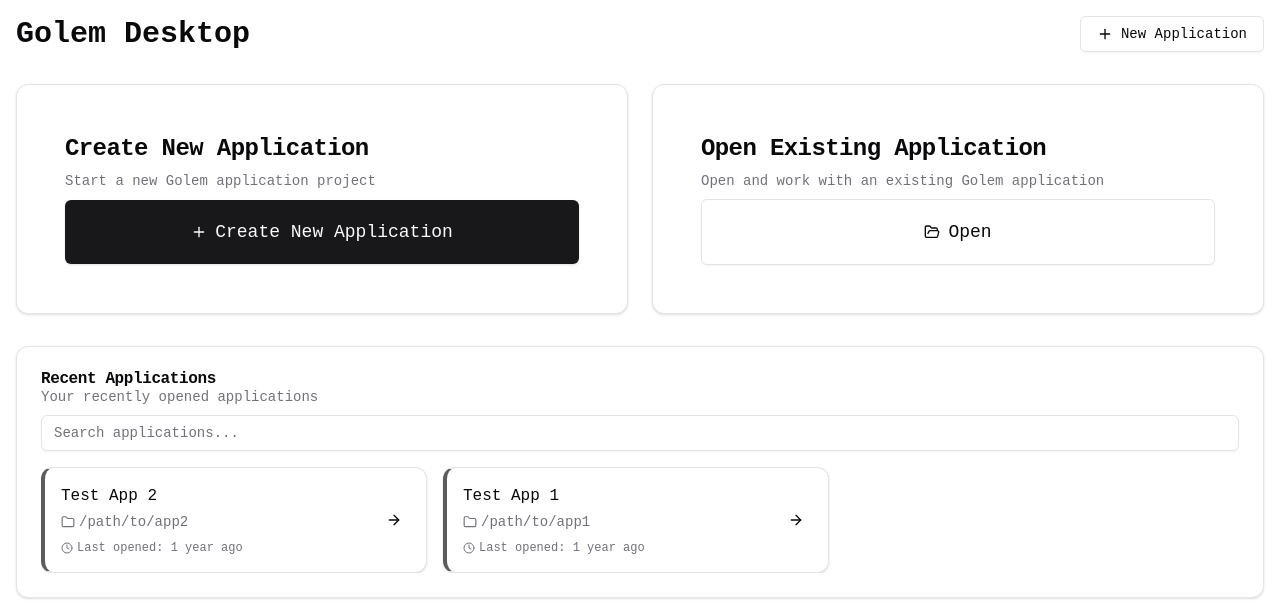
Test: Application Workflow Integration Tests › Search and Filter Integration › should filter apps in real-time during search
Expected: the heading "Test App 1" is shown, x1=463 y1=487 x2=559 y2=505
Expected: the heading "Test App 2" is shown, x1=61 y1=487 x2=157 y2=505
# Search for specific app
In the field with placeholder "Search applications...": point(640, 433) x1=41 y1=415 x2=1239 y2=451, type "Test App 1"
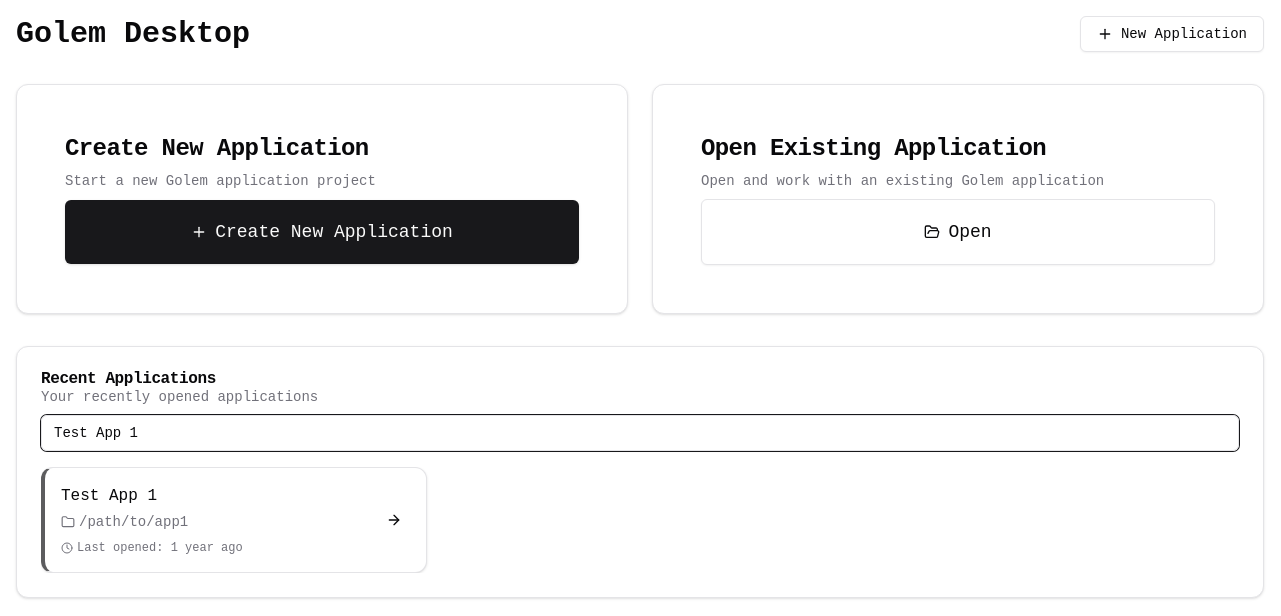
Expected: the heading "Test App 1" is shown, x1=61 y1=487 x2=157 y2=505
Expected: the heading "Test App 2" is gone
# Clear search
Clear the field with placeholder "Search applications...": point(640, 433) x1=41 y1=415 x2=1239 y2=451
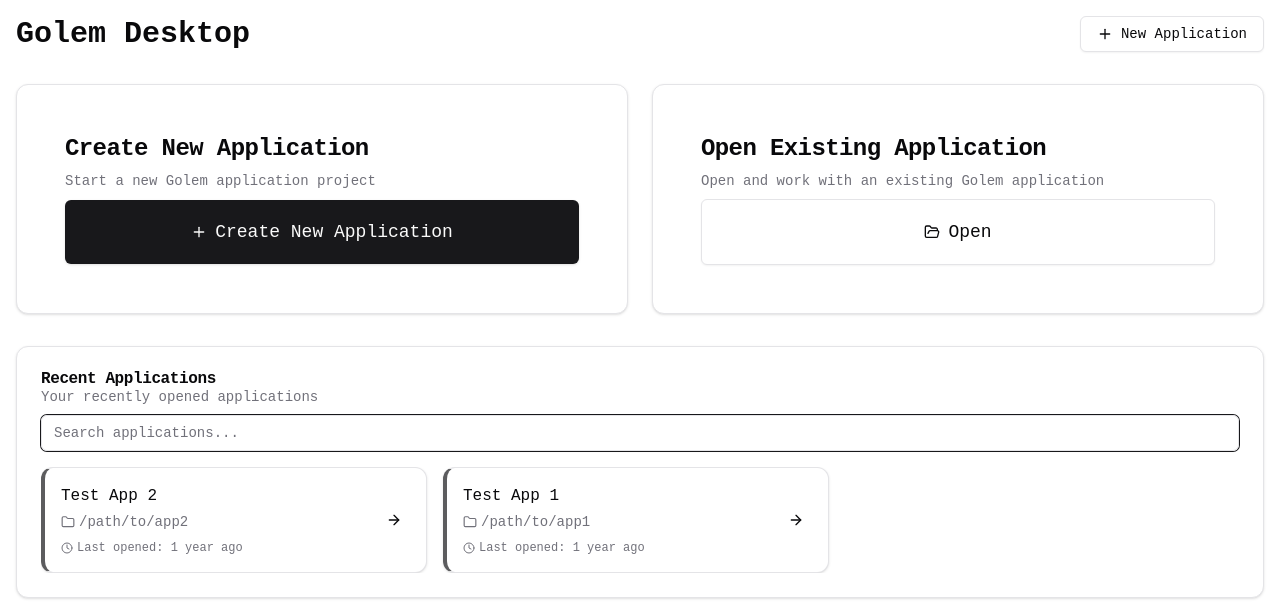
Expected: the heading "Test App 1" is shown, x1=463 y1=487 x2=559 y2=505
Expected: the heading "Test App 2" is shown, x1=61 y1=487 x2=157 y2=505
